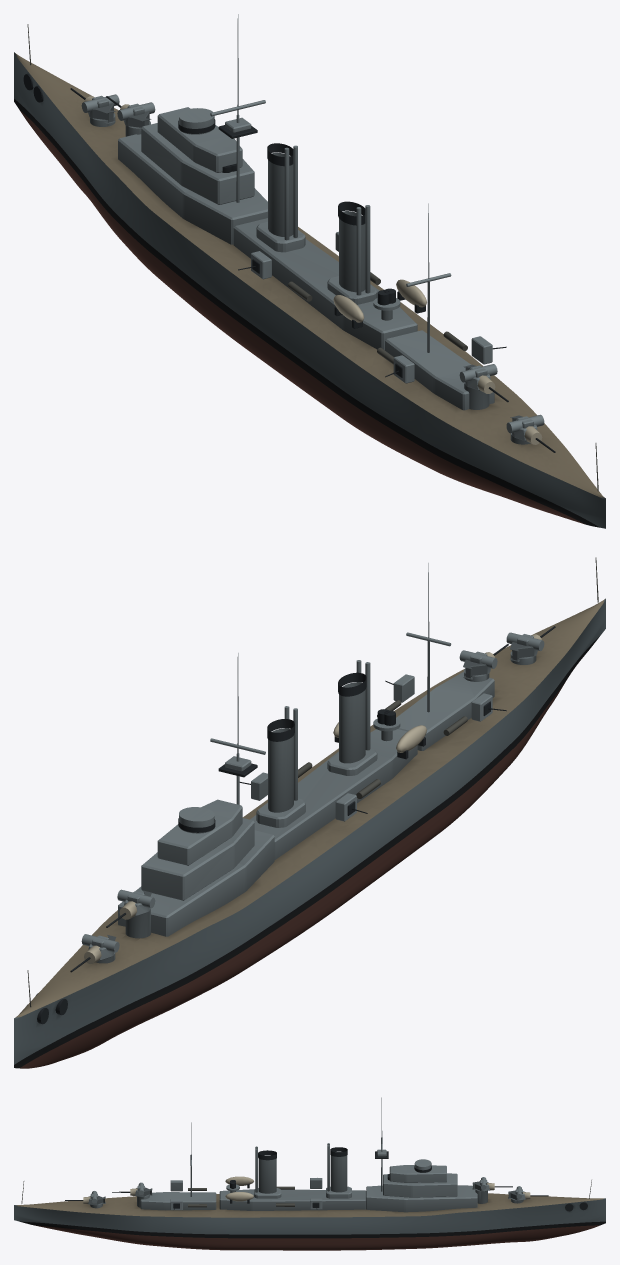
Rendered from uss-duncan.glb.
The picture shows the model from 3 angles, top to bottom: view 1: azimuth 30°, elevation 25°; view 2: azimuth 150°, elevation 25°; view 3: azimuth 270°, elevation 25°; orthographic projection. The views are drawn at different scales.
Parts seen in each view (by area): view 1: uss-duncan; view 2: uss-duncan; view 3: uss-duncan.
Part boxes in pixels (x1,y1,x2,y2): uss-duncan: [14, 14, 605, 528]; uss-duncan: [14, 557, 605, 1068]; uss-duncan: [14, 1097, 605, 1250].
Size of the model in its own units: 13.39 by 28.5 by 106.
